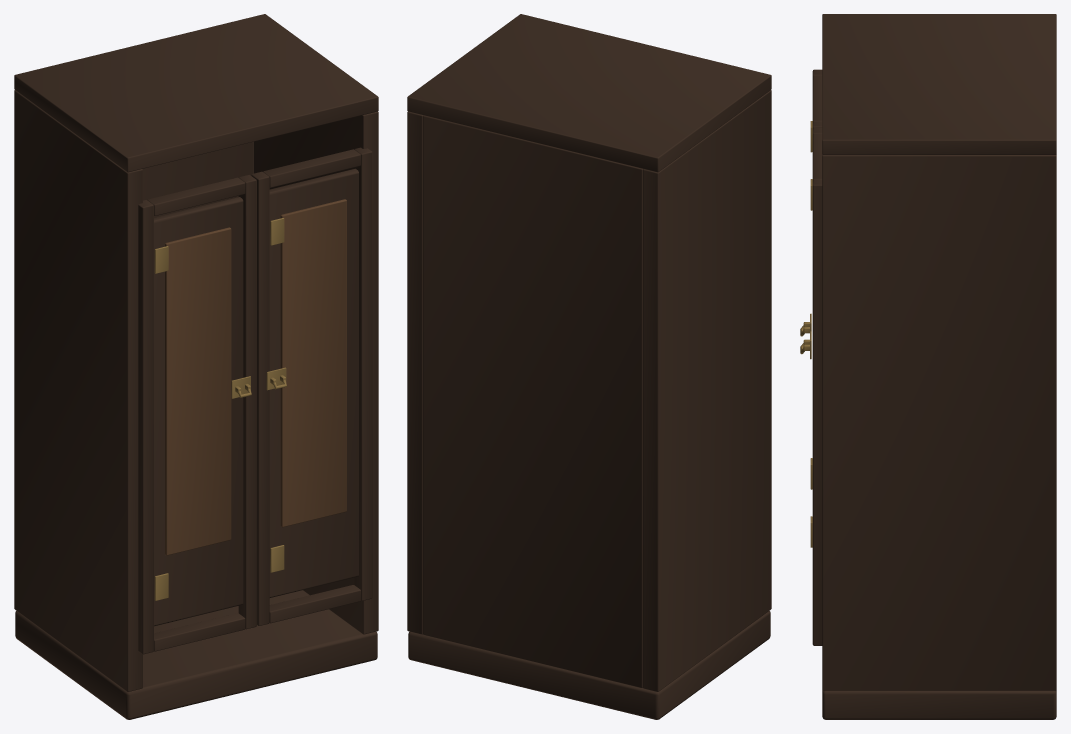
File: kominka-butsudan-01.glb
The picture shows the model from 3 angles, left to right: view 1: azimuth 30°, elevation 25°; view 2: azimuth 150°, elevation 25°; view 3: azimuth 270°, elevation 25°; orthographic projection. The views are drawn at different scales.
Parts seen in each view (by area): view 1: kominka-butsudan-01; view 2: kominka-butsudan-01; view 3: kominka-butsudan-01.
Part boxes in pixels (box(x1,y1,x2,y2)): kominka-butsudan-01: box(14, 14, 378, 719); kominka-butsudan-01: box(407, 14, 771, 719); kominka-butsudan-01: box(800, 14, 1056, 719).
Size of the model in its own units: 0.7 by 1.5 by 0.6.
